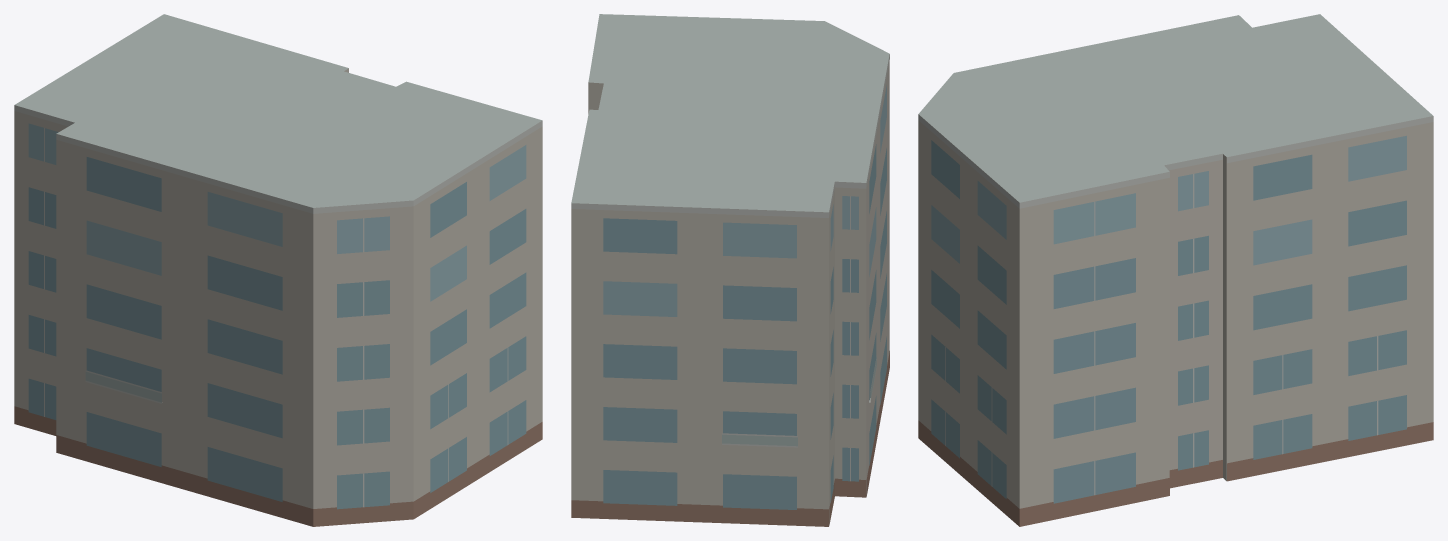
The model's file is survey-upis-32702428.glb.
The picture shows the model from 3 angles, left to right: view 1: azimuth 30°, elevation 25°; view 2: azimuth 150°, elevation 25°; view 3: azimuth 270°, elevation 25°; orthographic projection. The views are drawn at different scales.
Visible parts, largest first — view 1: survey-upis-32702428.tmp; view 2: survey-upis-32702428.tmp; view 3: survey-upis-32702428.tmp.
Boxes of the visible parts, left/top/right/bottom form: survey-upis-32702428.tmp: left=14, top=14, right=542, bottom=526; survey-upis-32702428.tmp: left=571, top=14, right=889, bottom=526; survey-upis-32702428.tmp: left=918, top=14, right=1433, bottom=526.
Size of the model in its own units: 16.49 by 13.2 by 19.03.
